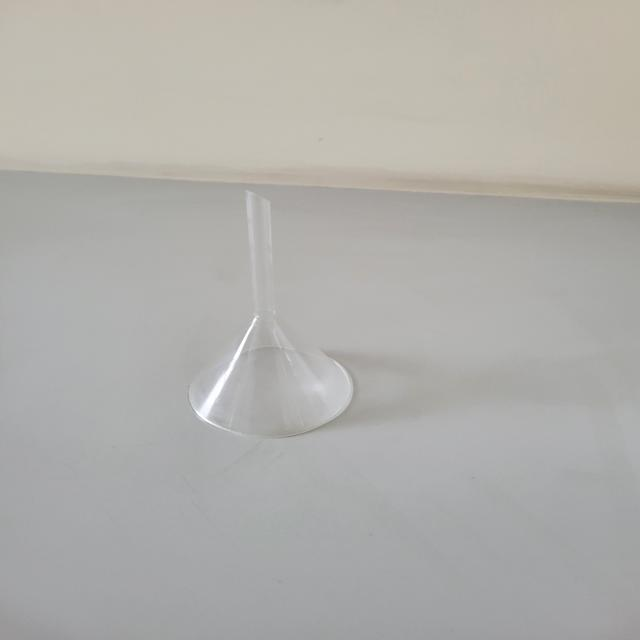Funnel: (114, 168, 396, 478)
